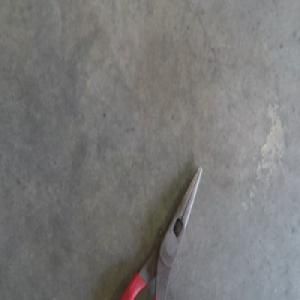Pliers: (122, 162, 202, 299)
